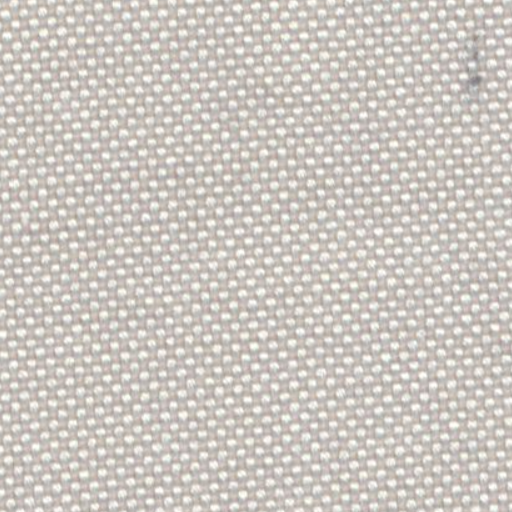WuZi: (440, 26, 494, 110)
